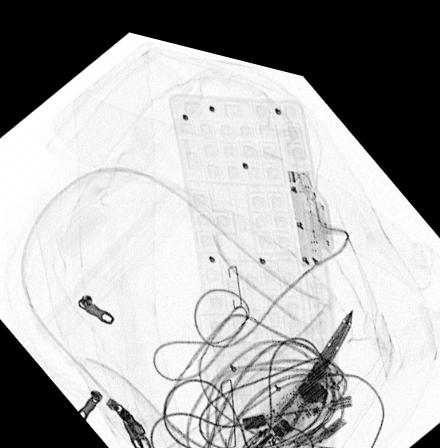Scissors: (226, 289, 352, 448)
